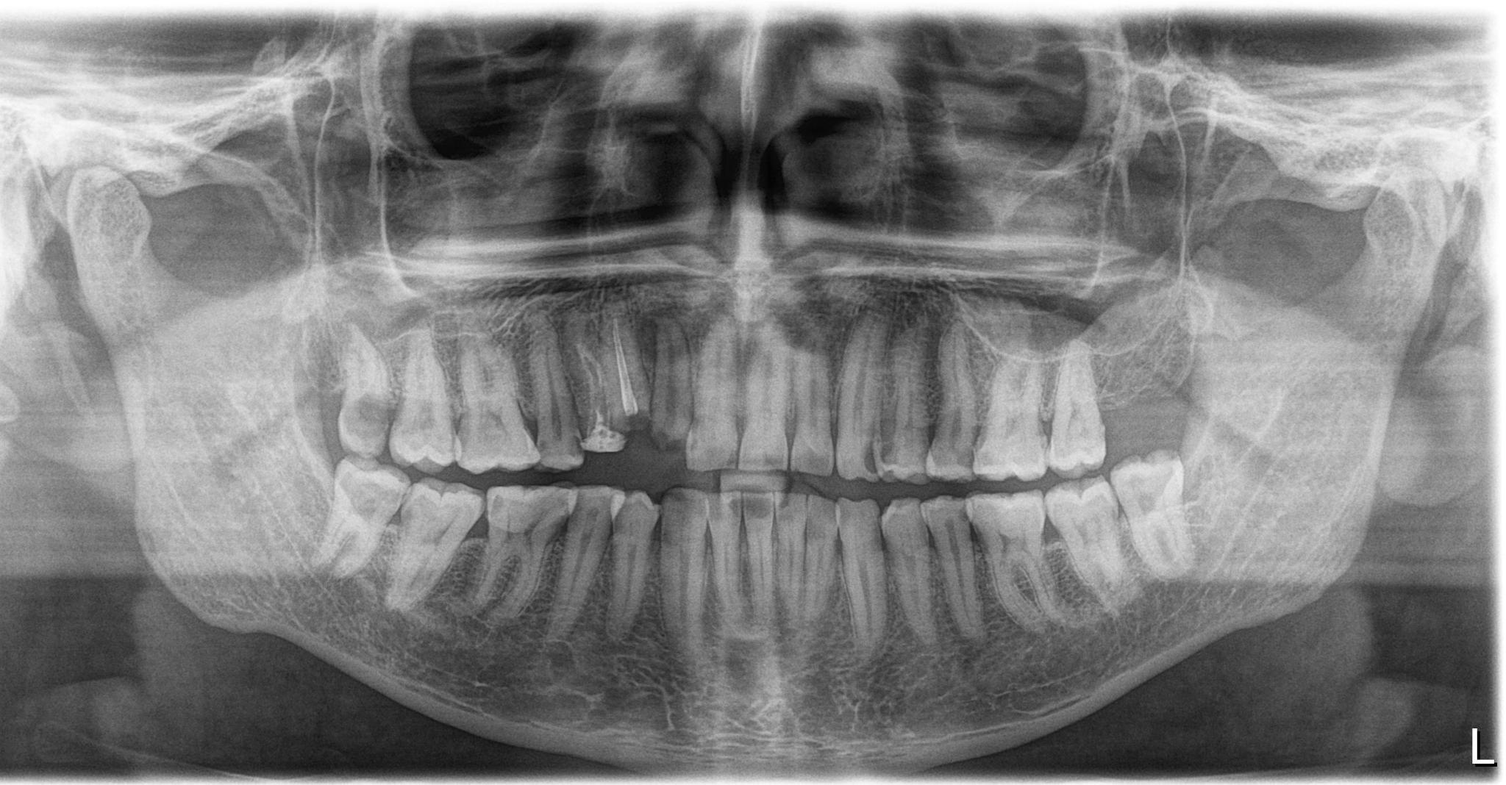Dental Caries: (325, 399, 452, 444)
Endodontically Treated Tooth: (545, 309, 669, 426)
Missing Tooth: (1090, 323, 1199, 443)
